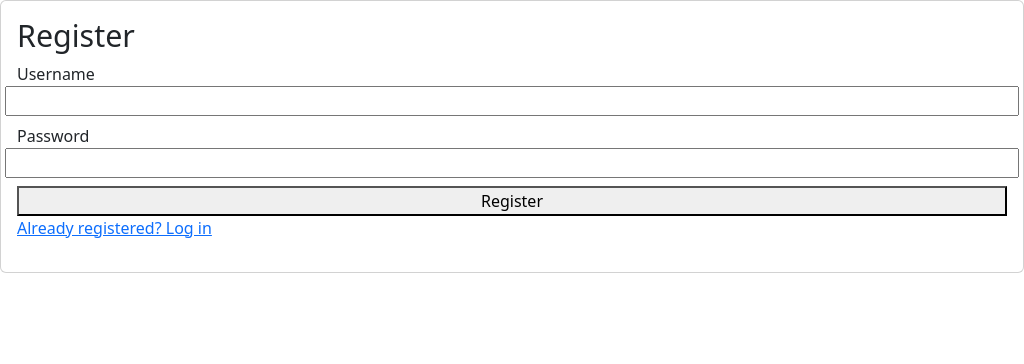
Test: RegisterView › shows the backend error message on failure
Type "ada" into the field with test id "username-input" at (512, 100), box [5,86,1019,116]
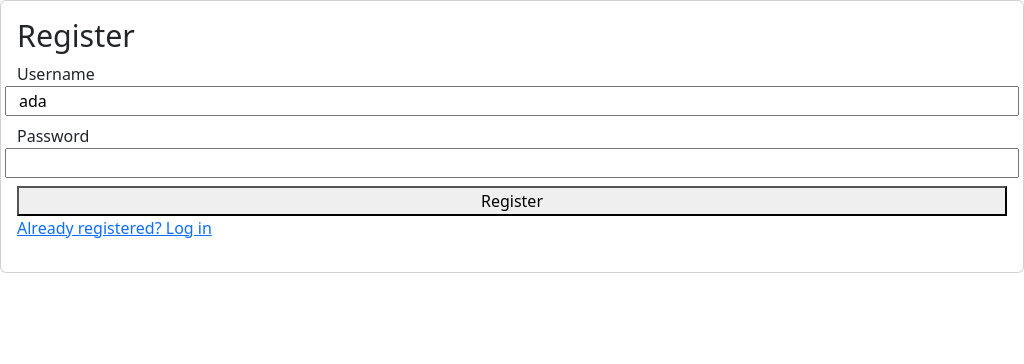
Type "secret" into the password field with test id "password-input" at (512, 162), box [5,148,1019,178]
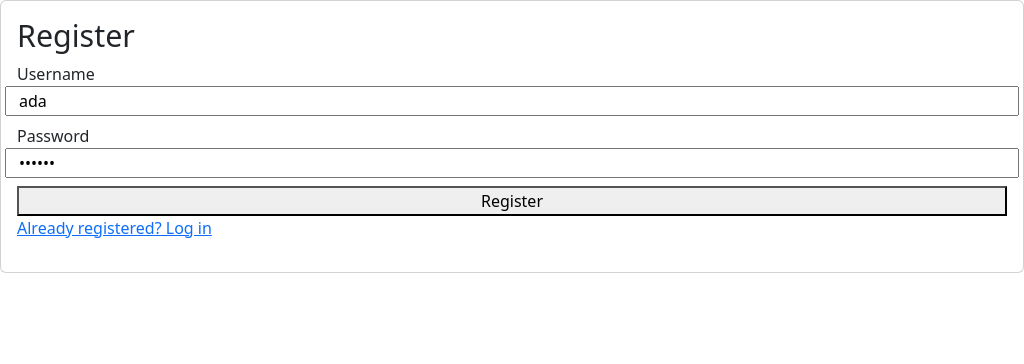
Submit the form with test id "auth-form", box [17,62,1007,216]
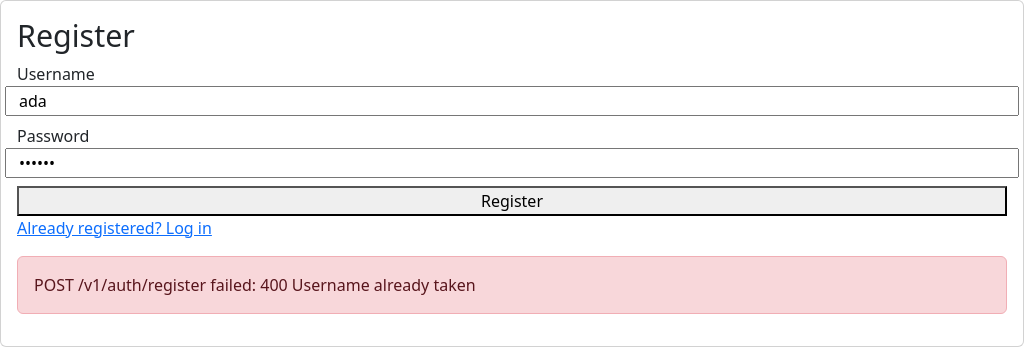
Expected: the text with test id "auth-error" shows "400", [34,274,476,296]
